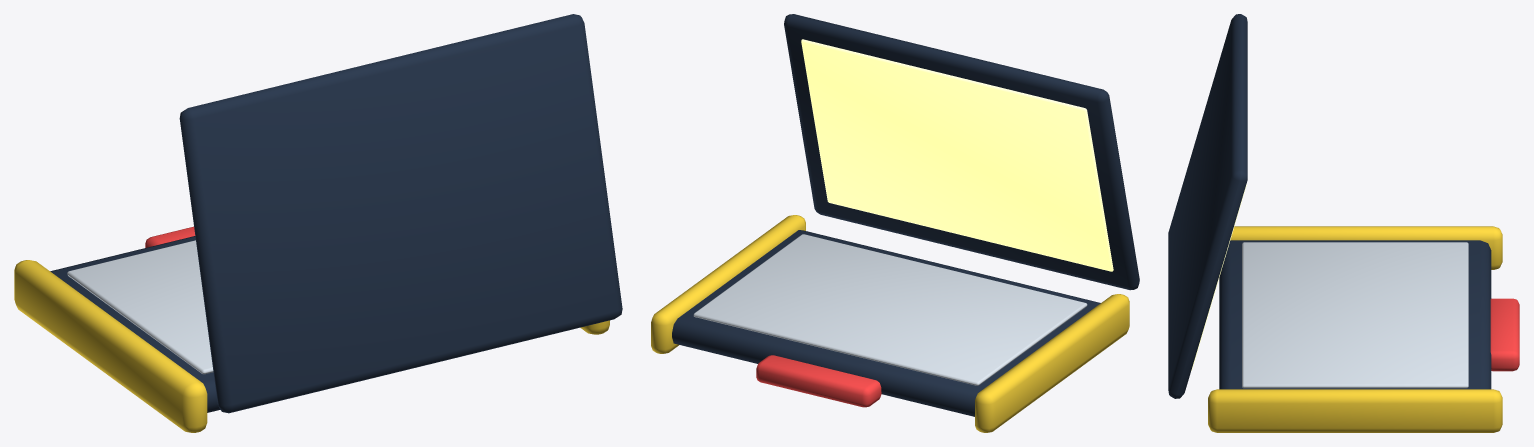
The model's file is RaptorLaptop.fbx.
3 views of the same model, side by side, from view 1: azimuth 30°, elevation 25°; view 2: azimuth 150°, elevation 25°; view 3: azimuth 270°, elevation 25° (orthographic). The views are drawn at different scales.
Visible parts, largest first — view 1: RaptorLaptop; view 2: RaptorLaptop; view 3: RaptorLaptop.
Boxes of the visible parts, left/top/right/bottom form: RaptorLaptop: left=14, top=14, right=622, bottom=432; RaptorLaptop: left=651, top=14, right=1139, bottom=432; RaptorLaptop: left=1168, top=14, right=1519, bottom=432.
Size of the model in its own units: 0.36 by 0.2511 by 0.3101.
